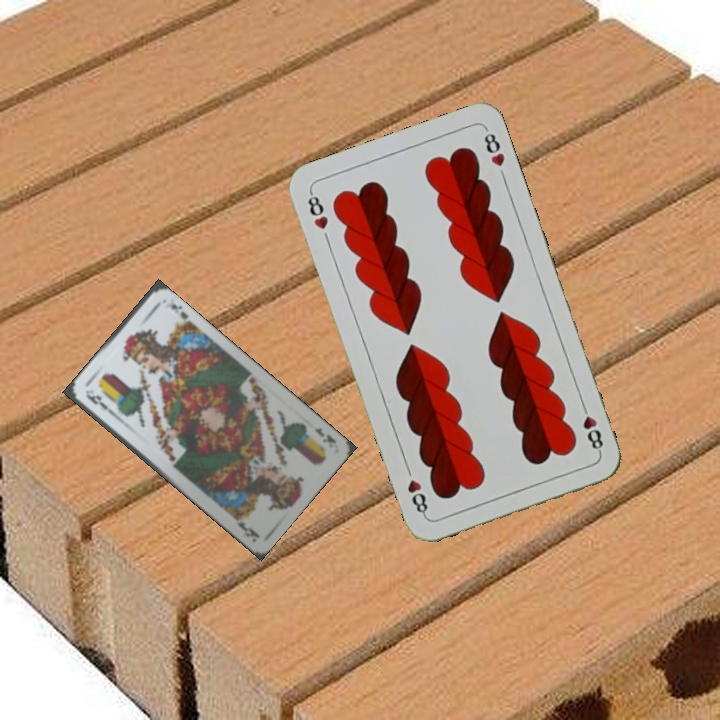EK: (82, 390, 117, 418), (310, 423, 339, 446)
H8: (577, 399, 606, 456), (303, 187, 331, 233)
